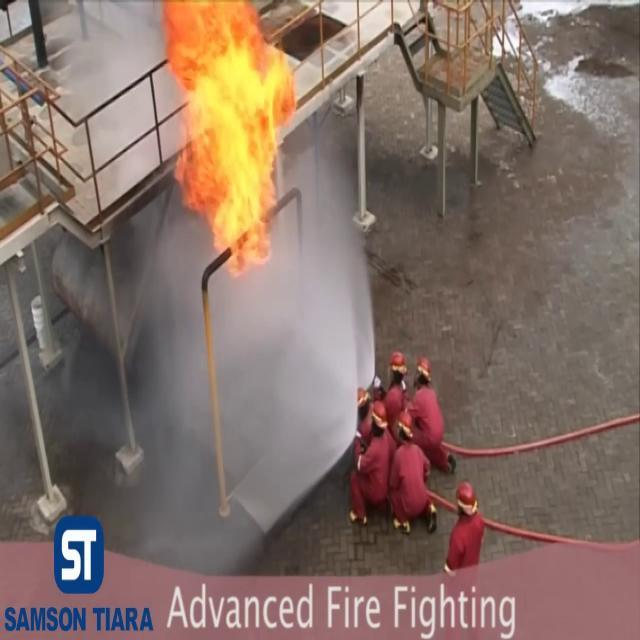Fire: (152, 0, 300, 256)
